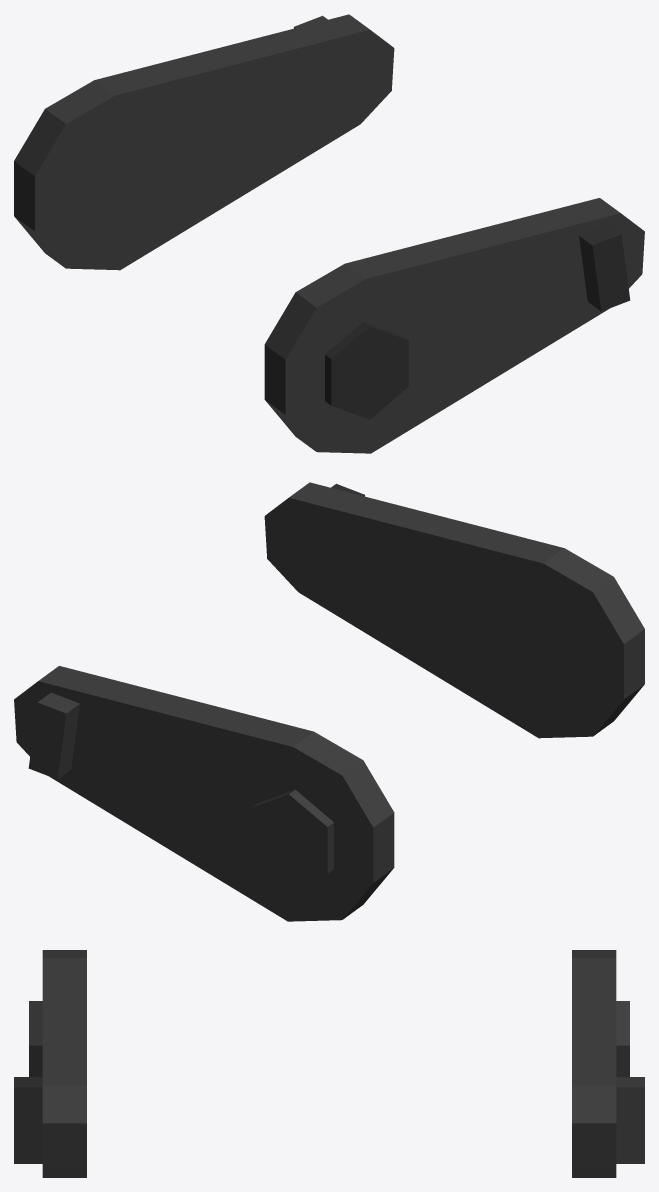
Rendered from SM_Pistols3_01_4.glb.
3 renders of one model, top to bottom at view 1: azimuth 30°, elevation 25°; view 2: azimuth 150°, elevation 25°; view 3: azimuth 270°, elevation 25°, orthographic. The views are drawn at different scales.
Visible parts, largest first — view 1: SM_Pistols3_01_4; view 2: SM_Pistols3_01_4; view 3: SM_Pistols3_01_4.
Boxes of the visible parts, x1=… form: SM_Pistols3_01_4: x1=14, y1=14, x2=644, y2=453; SM_Pistols3_01_4: x1=14, y1=482, x2=644, y2=921; SM_Pistols3_01_4: x1=14, y1=950, x2=644, y2=1177.
Bounding box in the file's own units: 0.0373 × 0.0178 × 0.0538.
1 material, 1 textured.
